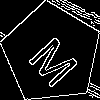M: (27, 28, 88, 90)
